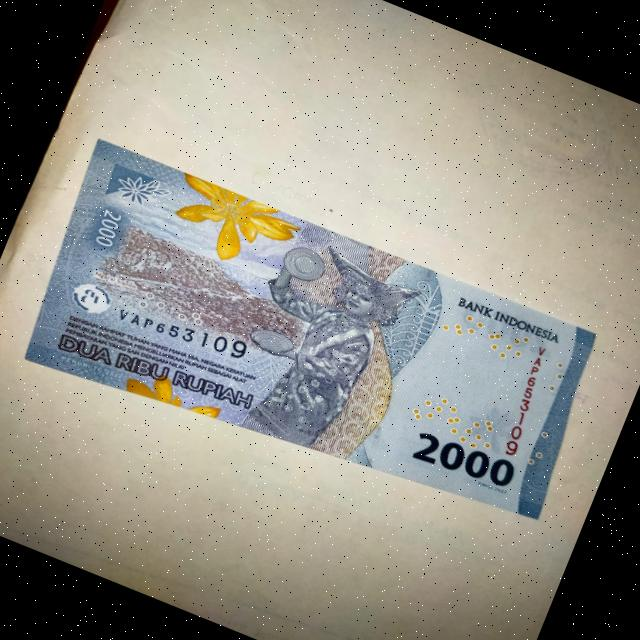2K: (2, 115, 640, 583)
